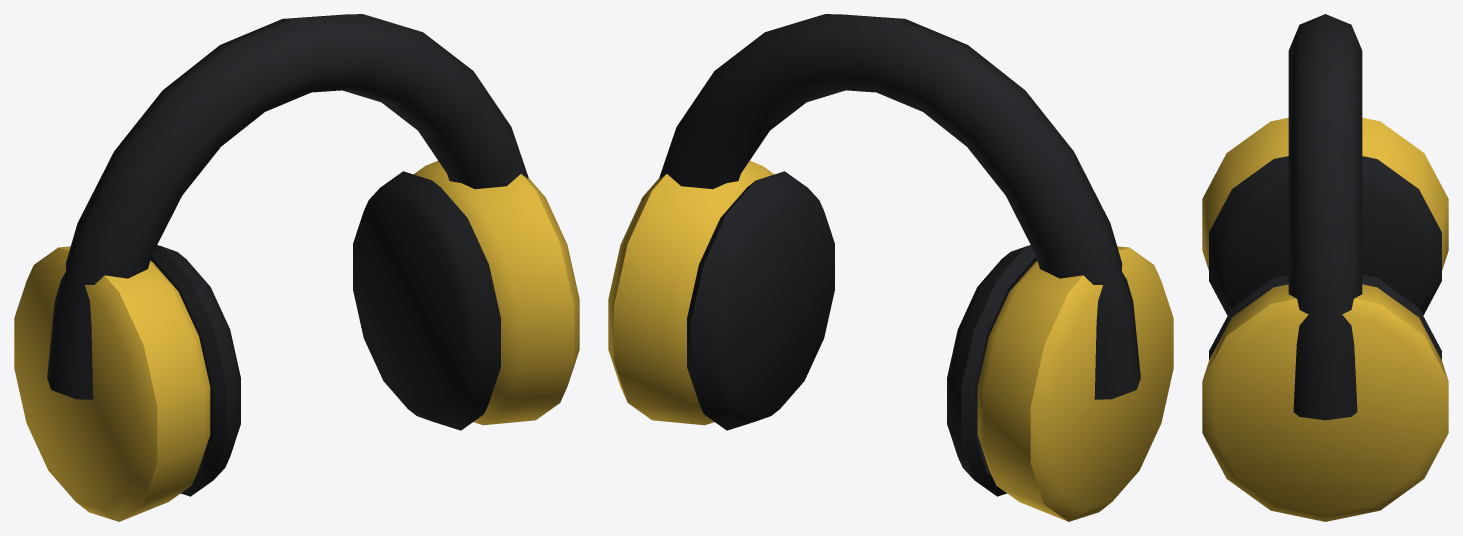
File: SM_EarMuffs_01.glb
The picture shows the model from 3 angles, left to right: view 1: azimuth 30°, elevation 25°; view 2: azimuth 150°, elevation 25°; view 3: azimuth 270°, elevation 25°; orthographic projection. The views are drawn at different scales.
Visible parts, largest first — view 1: SM_EarMuffs_01; view 2: SM_EarMuffs_01; view 3: SM_EarMuffs_01.
Boxes of the visible parts, box(x1,y1,x2,y2) form: SM_EarMuffs_01: box(14, 14, 579, 521); SM_EarMuffs_01: box(608, 14, 1173, 521); SM_EarMuffs_01: box(1202, 14, 1448, 521).
Bounding box in the file's own units: 0.2218 × 0.191 × 0.1072.
1 material, 1 textured.
